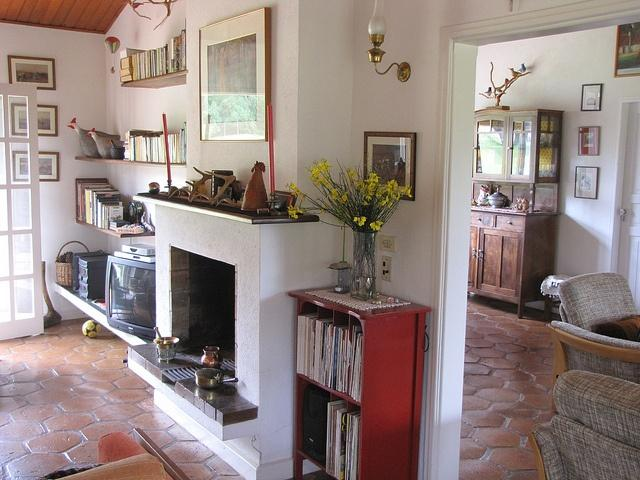Rak: (287, 292, 365, 479)
